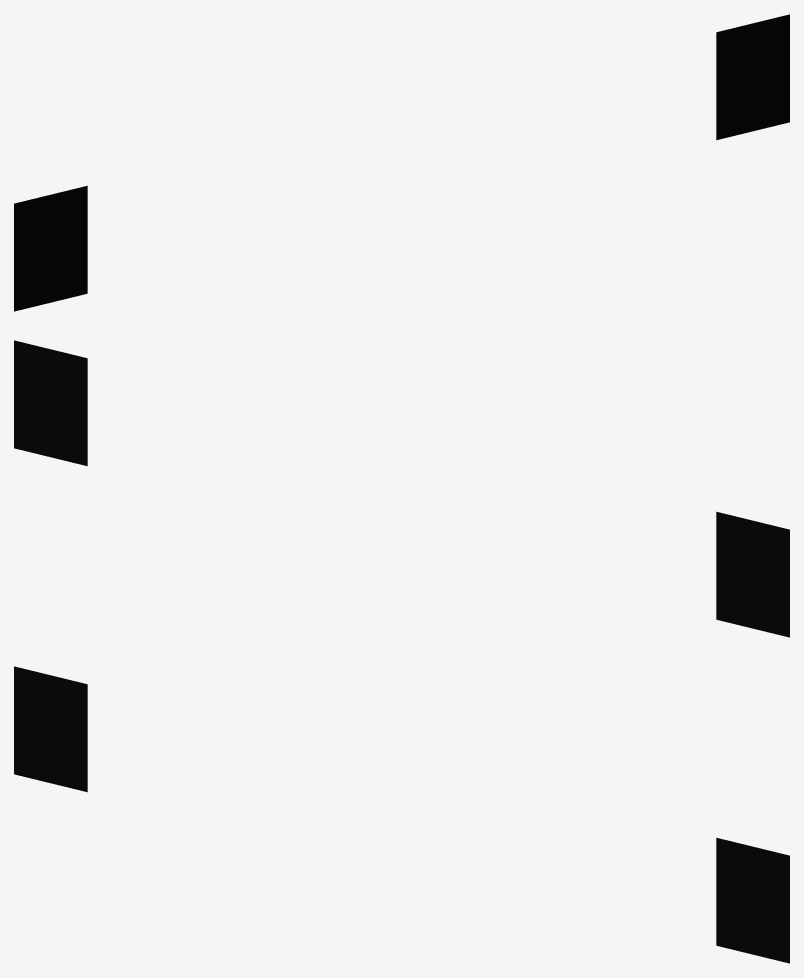
3 views of the same model, one above another, from view 1: azimuth 30°, elevation 25°; view 2: azimuth 150°, elevation 25°; view 3: azimuth 330°, elevation 25° (orthographic).
Visible parts, largest first — view 1: Joint_0_Object_0; view 2: Joint_0_Object_0; view 3: Joint_0_Object_0.
Part boxes in pixels (box(x1,y1,x2,y2)): Joint_0_Object_0: box(14, 14, 789, 311); Joint_0_Object_0: box(14, 340, 789, 637); Joint_0_Object_0: box(14, 666, 789, 963).
Size of the model in its own units: 74.21 by 9.87 by 0.
1 material, 1 textured.
